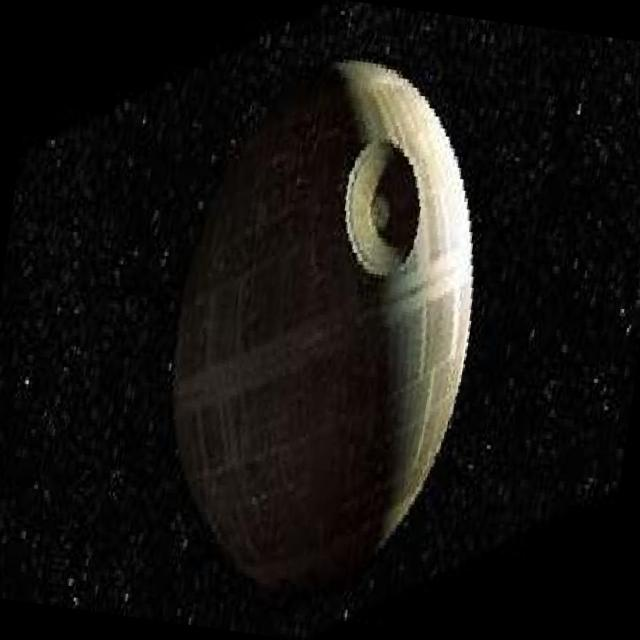Death Star: (136, 30, 510, 618)
